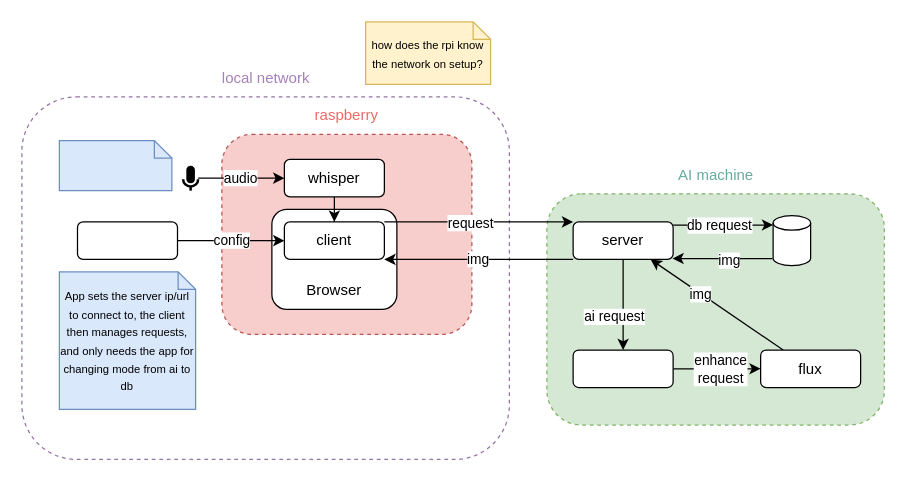
The diagram is 906 pixels wide and 481 high, and some of its shapes have lost their labels. Here are the shapes that lost their labels. From the top down, the centre of each, then its label:
At (x=115, y=165): "use wakeword to activate commad".
At (x=127, y=240): "app".
At (x=622, y=368): "Ollama".
